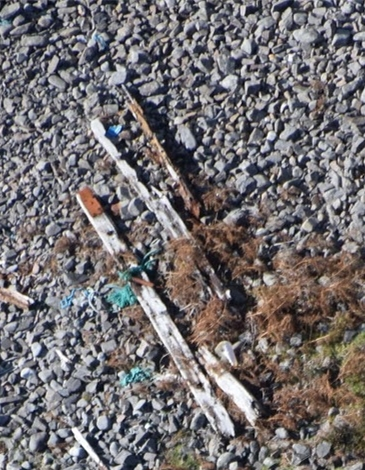net: (58, 259, 161, 309), (97, 344, 149, 389)
straight_bar: (77, 184, 232, 440), (87, 113, 232, 304), (115, 84, 207, 218), (192, 344, 265, 430), (70, 424, 109, 470)
white_in_green: (88, 105, 138, 152)
